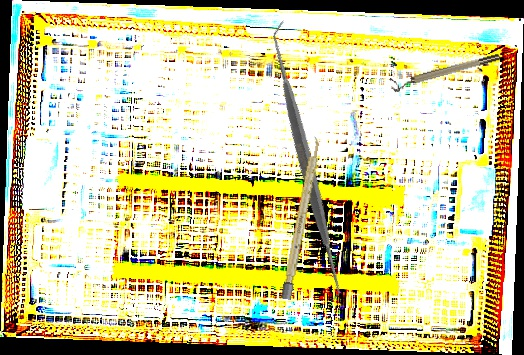Fixation Ring: (388, 51, 503, 94)
Scalpel Handle: (280, 136, 323, 300)
Spatula Surgical: (162, 18, 451, 306)
